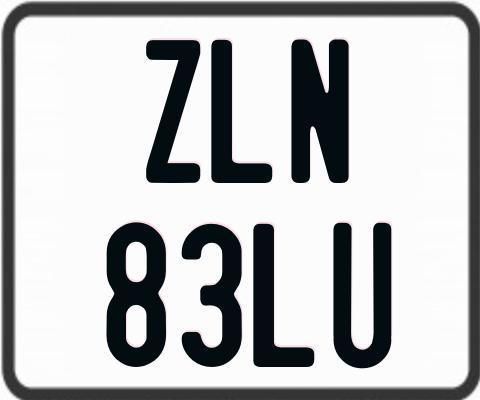3: (180, 223, 244, 368)
8: (105, 221, 168, 372)
L: (208, 38, 274, 187), (251, 221, 317, 368)
N: (288, 38, 350, 188)
U: (332, 221, 394, 370)
Z: (146, 37, 206, 182)
